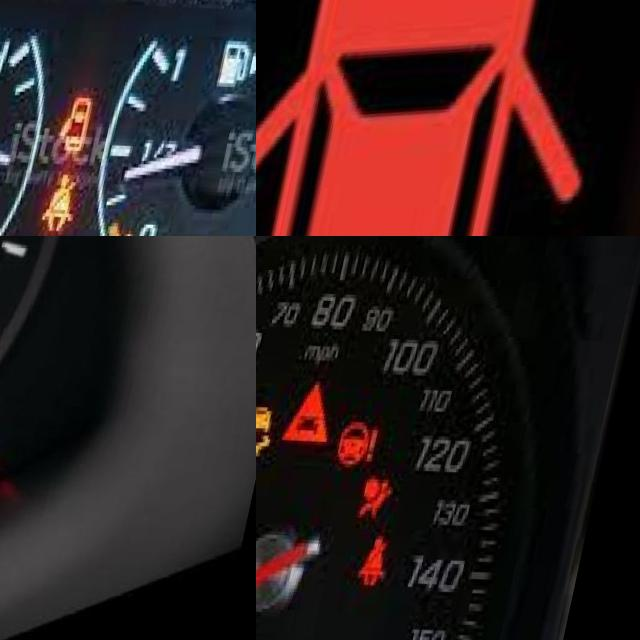Electronic Power Steering: (343, 410, 403, 470)
Seat Belt: (49, 170, 107, 232), (369, 531, 417, 587)
